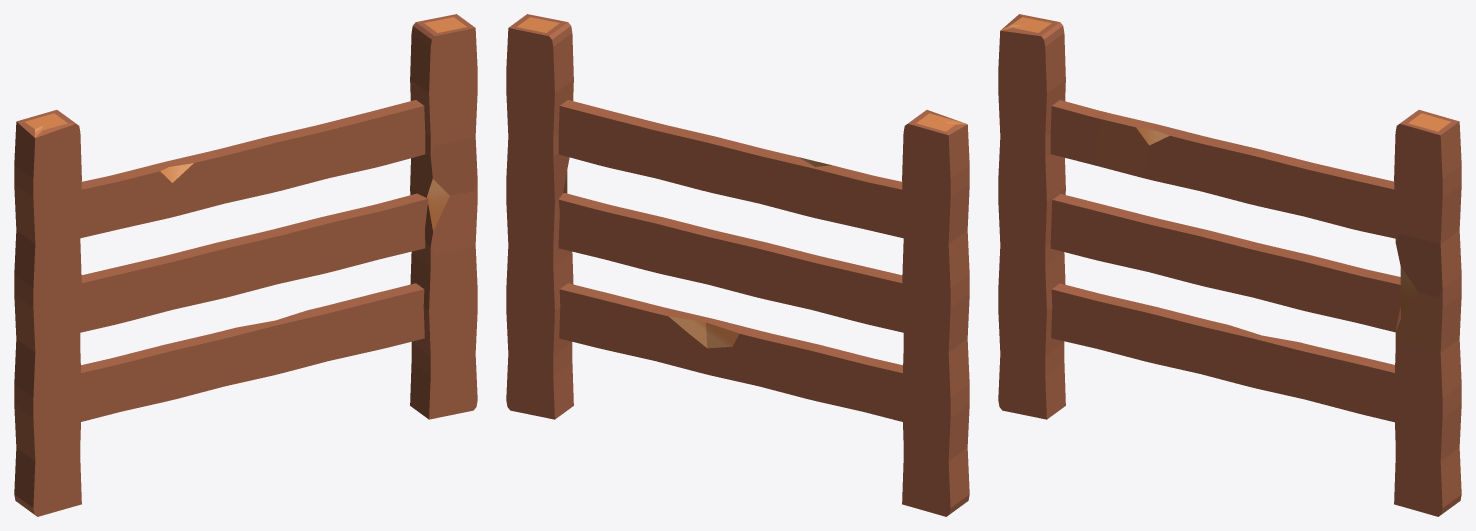
Rendered from Cerca1.fbx.
The picture shows the model from 3 angles, left to right: view 1: azimuth 30°, elevation 25°; view 2: azimuth 150°, elevation 25°; view 3: azimuth 330°, elevation 25°; orthographic projection.
Visible parts, largest first — view 1: Cerca1; view 2: Cerca1; view 3: Cerca1.
Boxes of the visible parts, x1,y1,x2,y2 form: Cerca1: [14, 14, 477, 516]; Cerca1: [506, 14, 969, 516]; Cerca1: [998, 14, 1461, 516].
Size of the model in its own units: 1.14 by 0.9448 by 0.0855.
